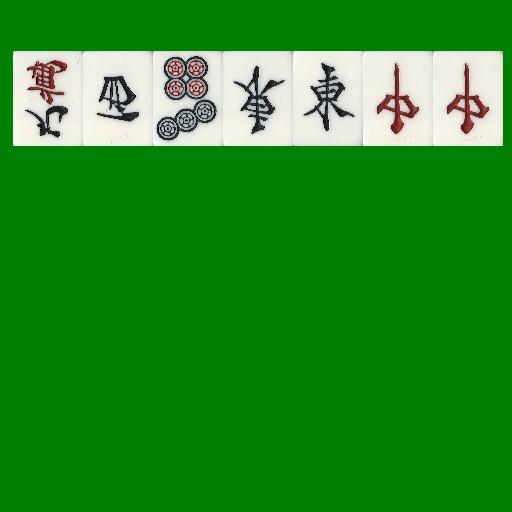7p: (153, 51, 223, 146)
9m: (13, 51, 83, 146)
east: (223, 51, 293, 146), (293, 51, 363, 146)
tyun: (363, 51, 433, 146), (433, 51, 503, 146)
west: (83, 51, 153, 146)
